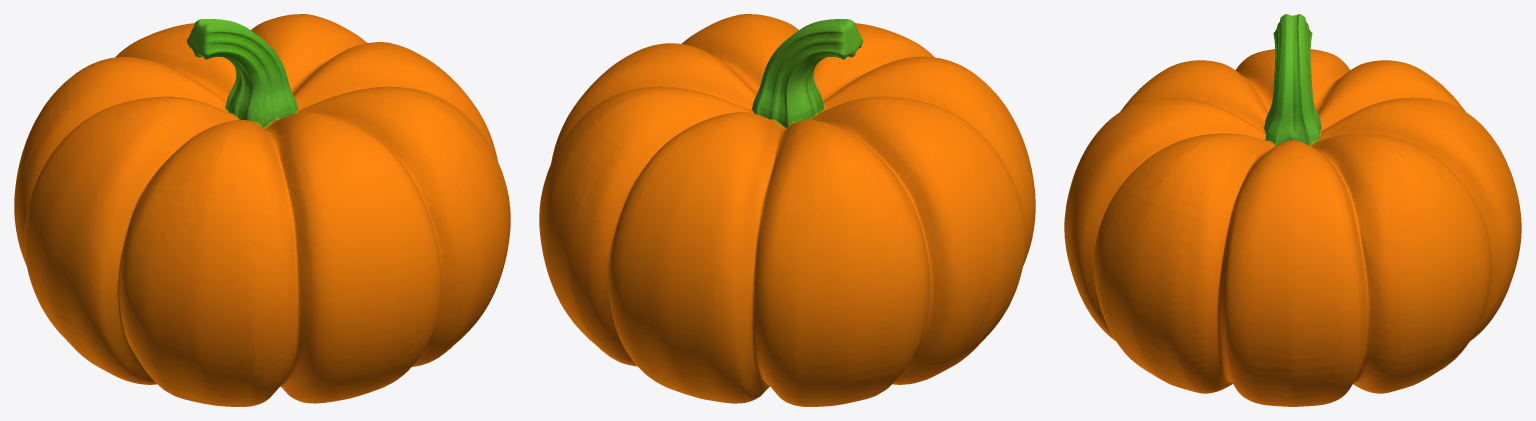
Rendered from Meshy_AI_A_large_bright_orange_0823155615_texture-optimized.glb.
3 renders of one model, left to right at view 1: azimuth 30°, elevation 25°; view 2: azimuth 150°, elevation 25°; view 3: azimuth 270°, elevation 25°, orthographic. The views are drawn at different scales.
Parts seen in each view (by area): view 1: mesh_node; view 2: mesh_node; view 3: mesh_node.
Boxes of the visible parts, x1,y1,x2,y2 form: mesh_node: [14, 14, 510, 406]; mesh_node: [539, 14, 1035, 406]; mesh_node: [1064, 14, 1521, 406].
Size of the model in its own units: 1.9 by 1.42 by 1.9.
Materials: 1 (1 with a texture image).
